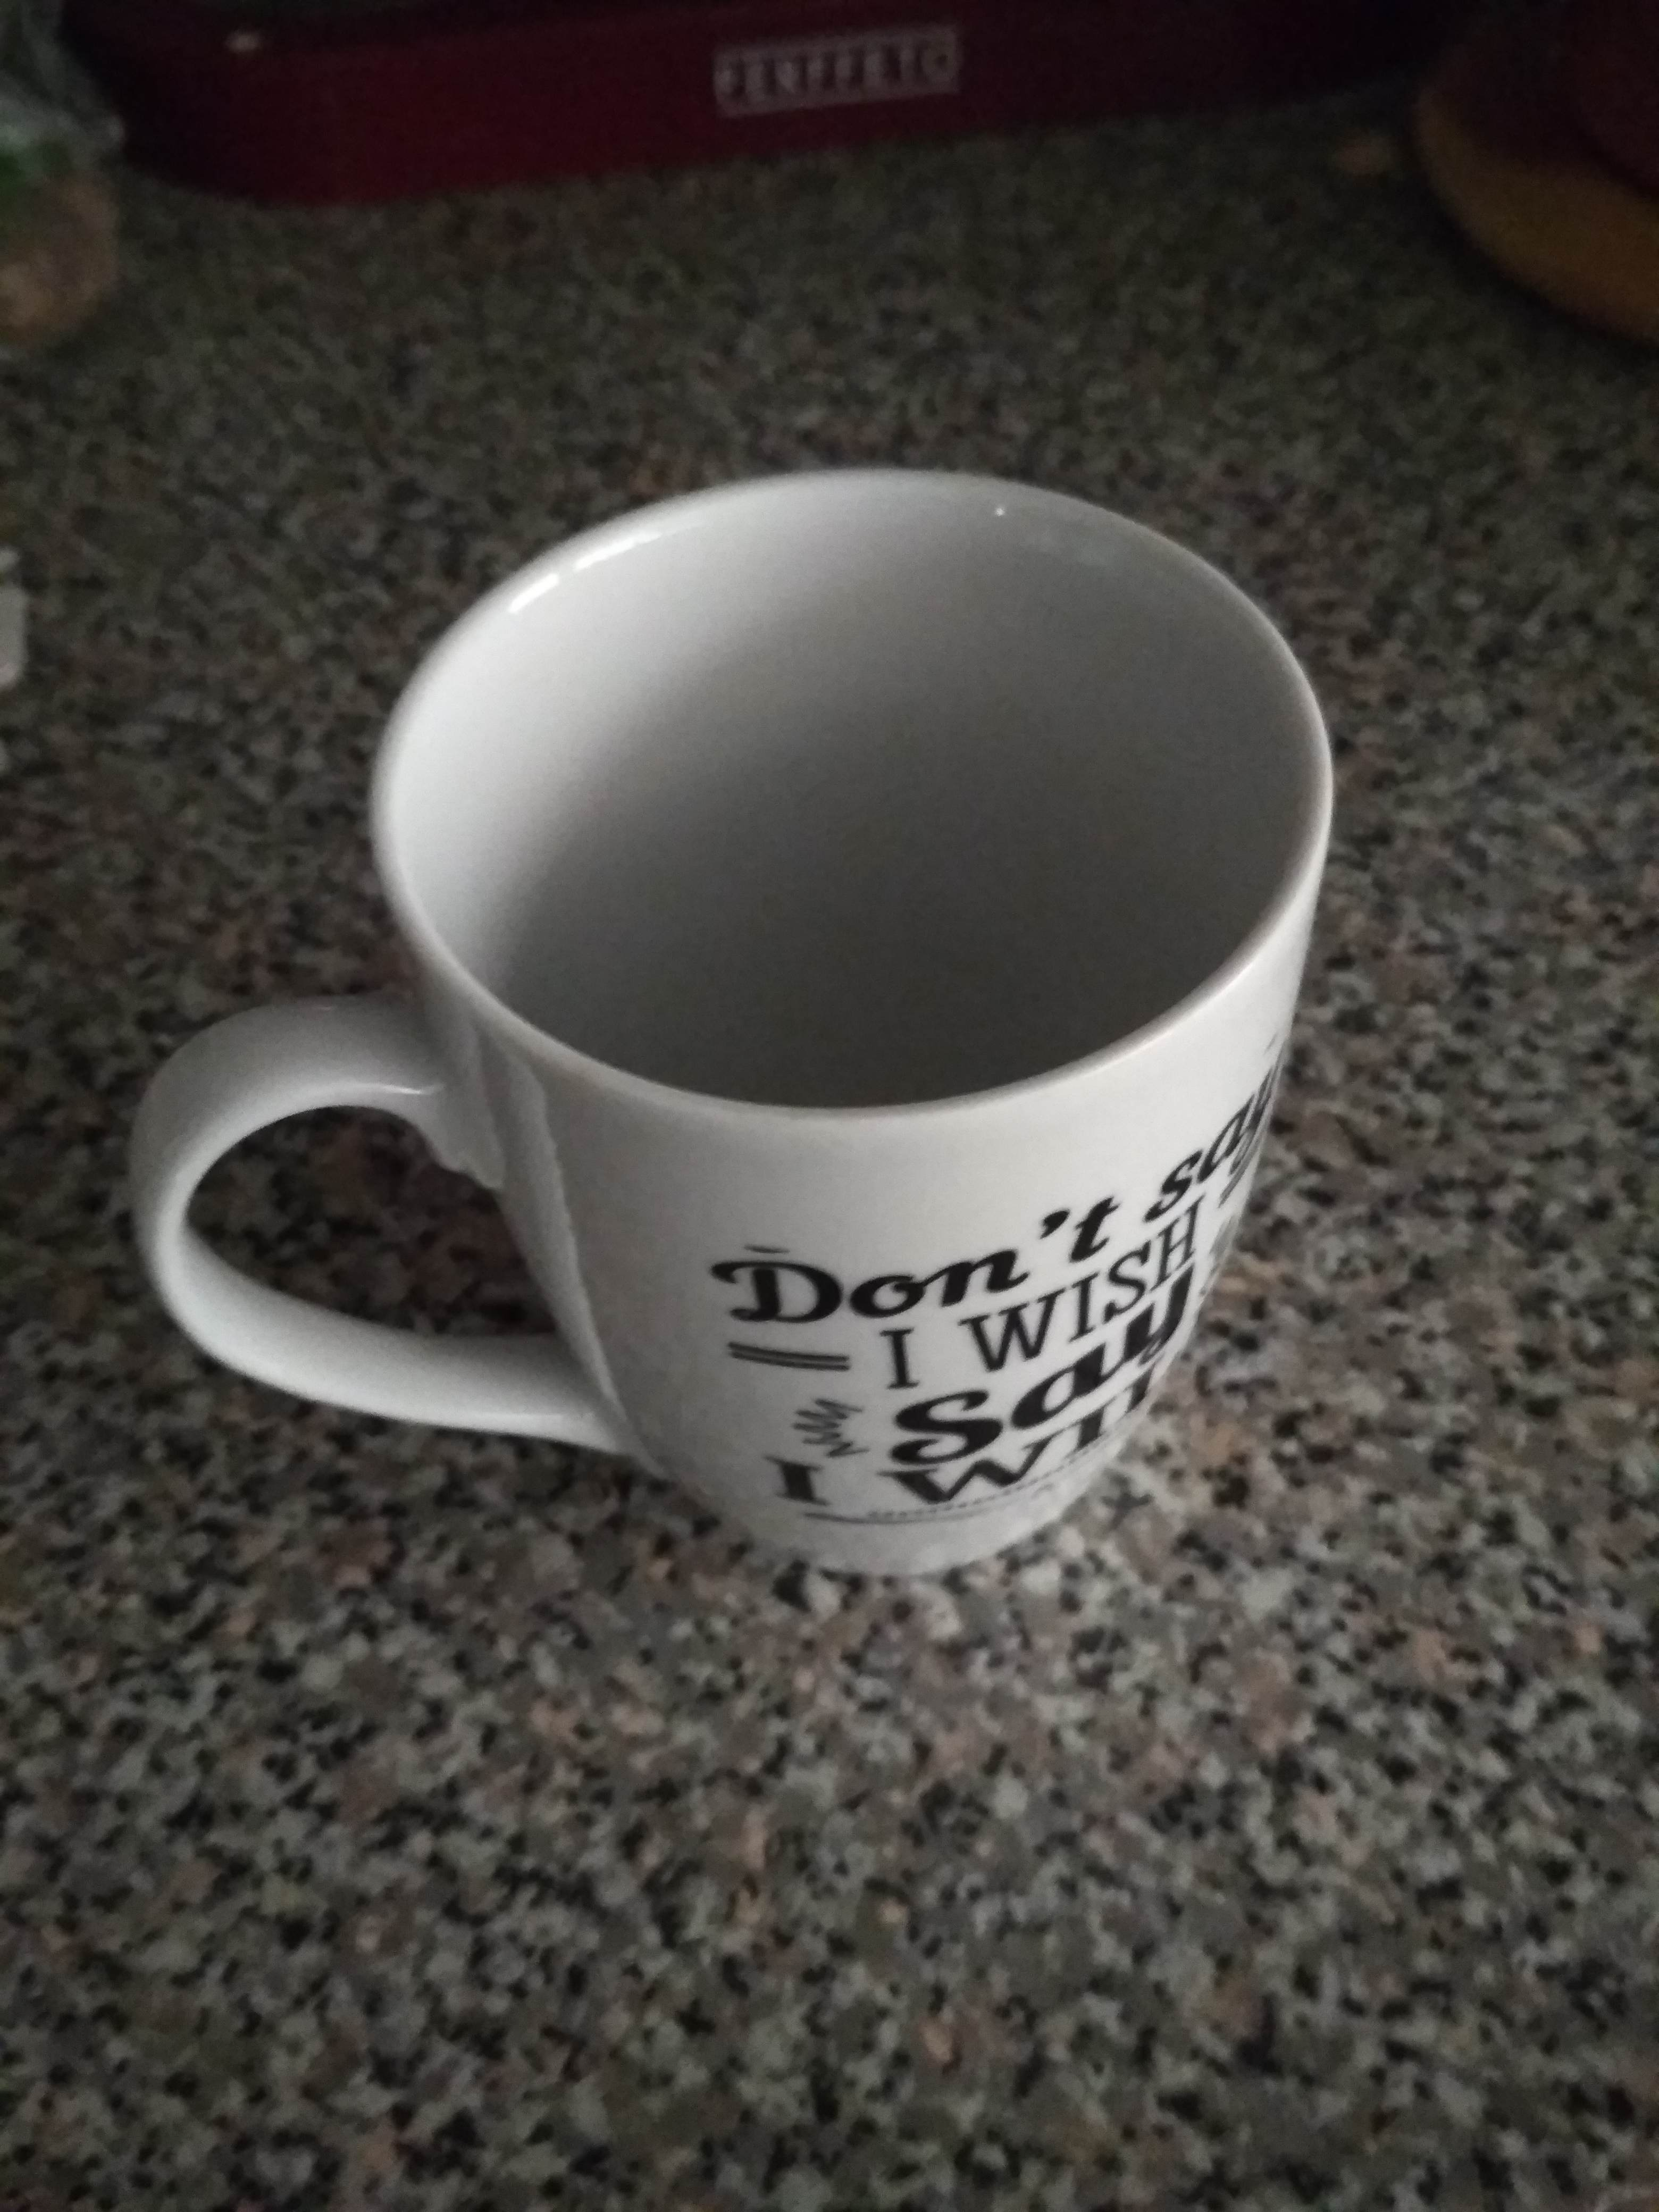cup: (103, 428, 1392, 1620)
